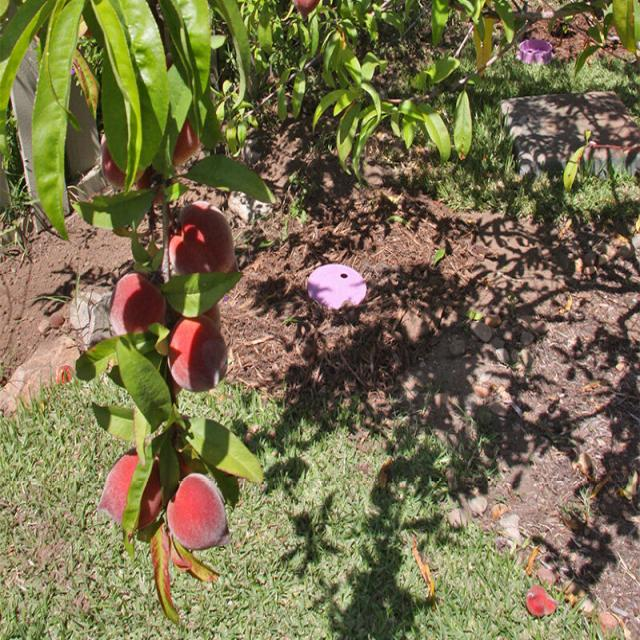Peach: (25, 0, 237, 560)
